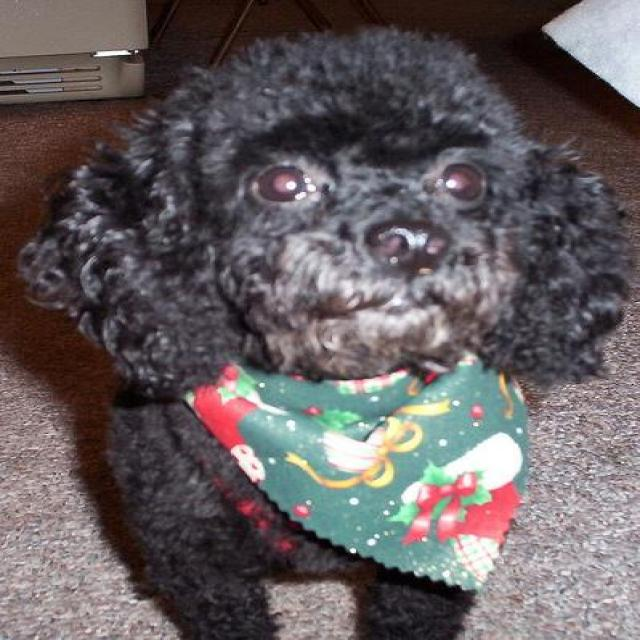eyes: (225, 143, 519, 215)
nose: (361, 208, 454, 274)
